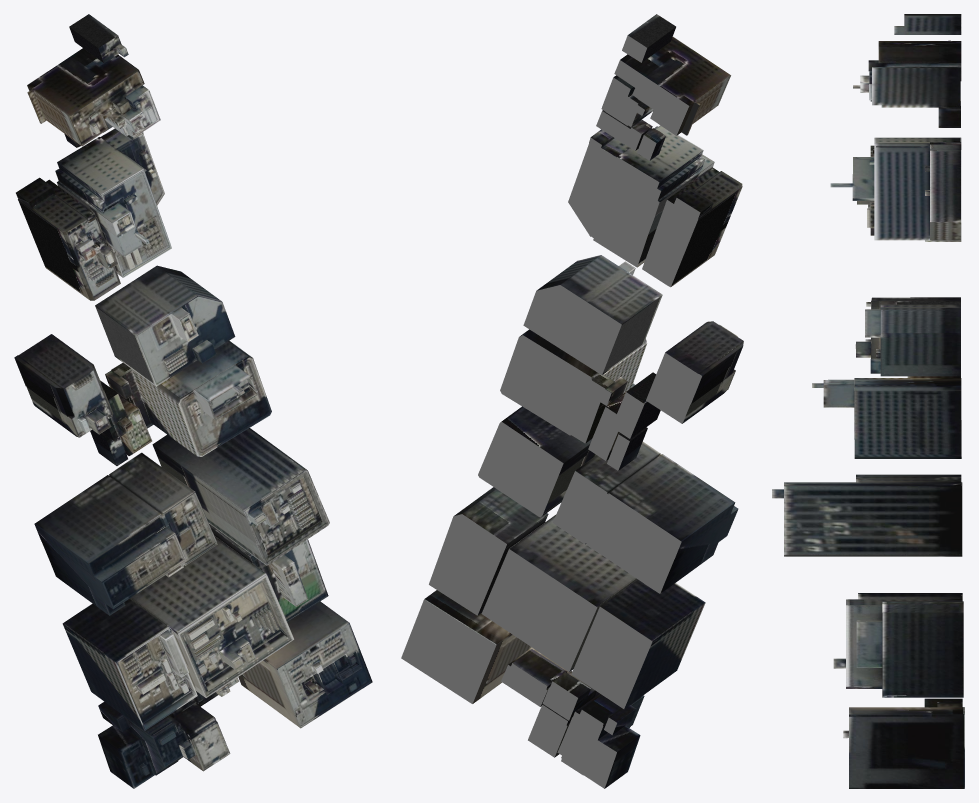
The model's file is 533946223_bldg_6677.obj.
3 views of the same model, side by side, from view 1: azimuth 30°, elevation 25°; view 2: azimuth 150°, elevation 25°; view 3: azimuth 270°, elevation 25° (orthographic). The views are drawn at different scales.
Size of the model in its own units: 134 by 326 by 76.28.
23 materials, 23 textured.
